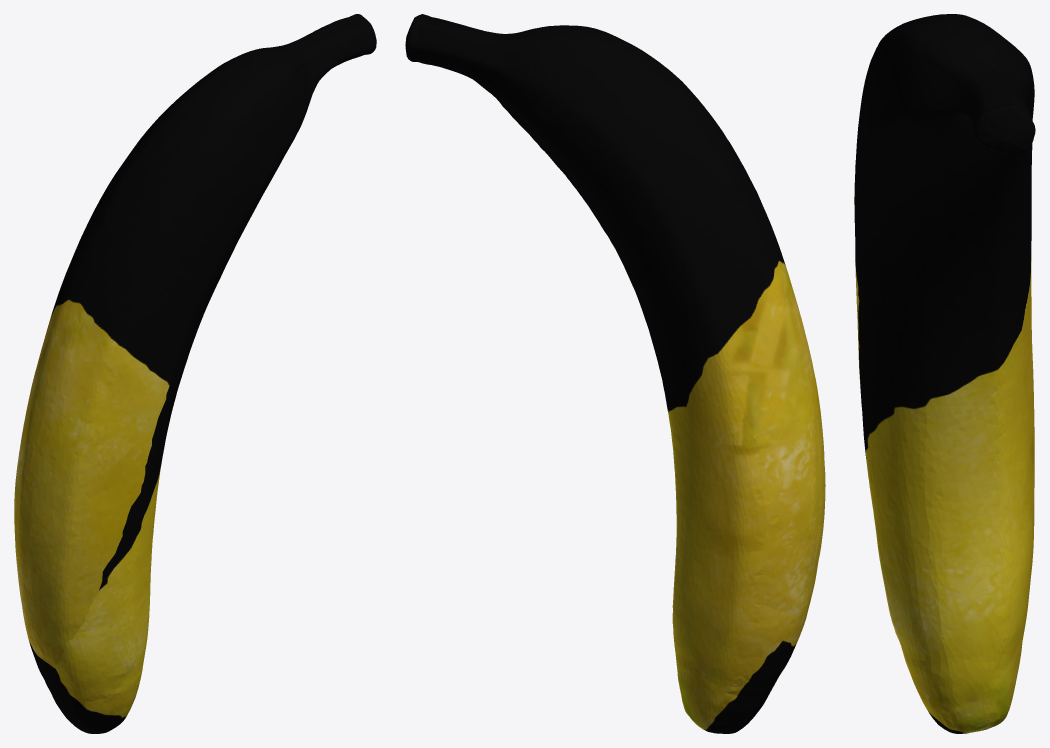
The picture shows the model from 3 angles, left to right: view 1: azimuth 30°, elevation 25°; view 2: azimuth 150°, elevation 25°; view 3: azimuth 270°, elevation 25°; orthographic projection. The views are drawn at different scales.
Visible parts, largest first — view 1: node; view 2: node; view 3: node.
Part boxes in pixels (x1,y1,x2,y2): node: (14, 14, 376, 733); node: (405, 14, 825, 733); node: (854, 14, 1035, 733).
Size of the model in its own units: 0.1089 by 0.1784 by 0.0367.
